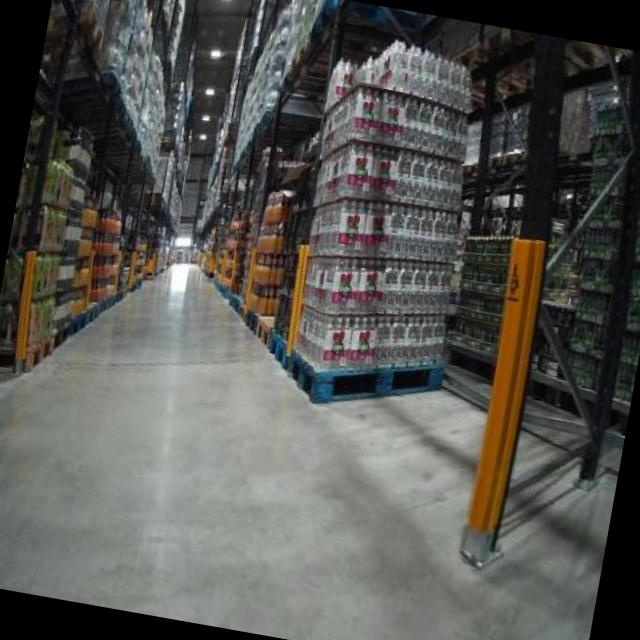pallet: (304, 336, 462, 438)
